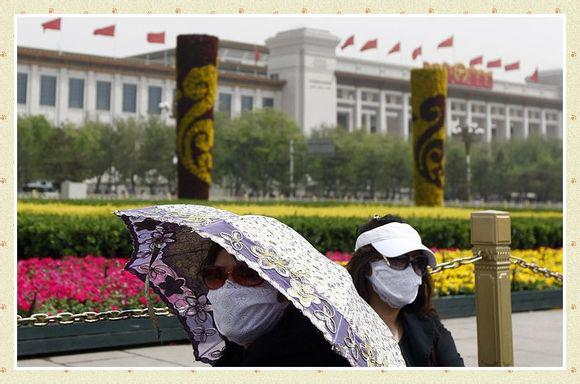OK: (207, 253, 304, 348), (371, 252, 427, 311)
